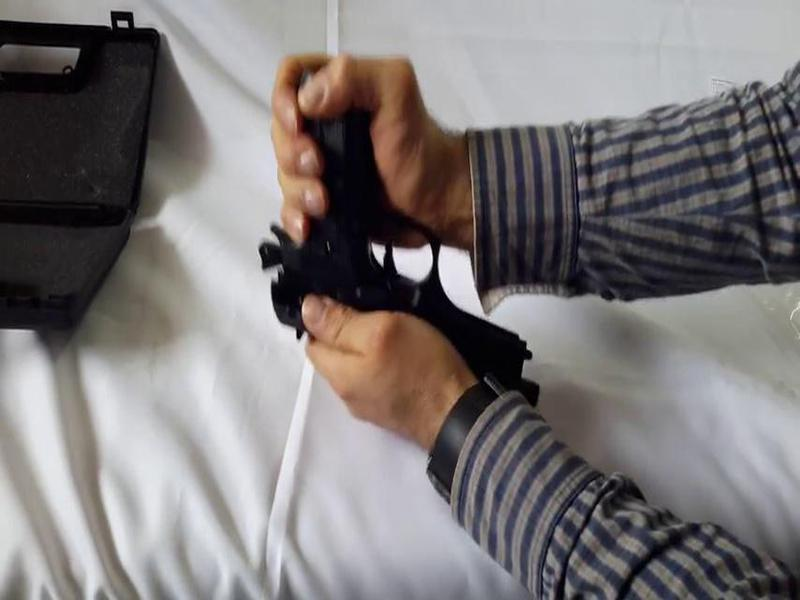Pistola: (229, 95, 574, 425)
